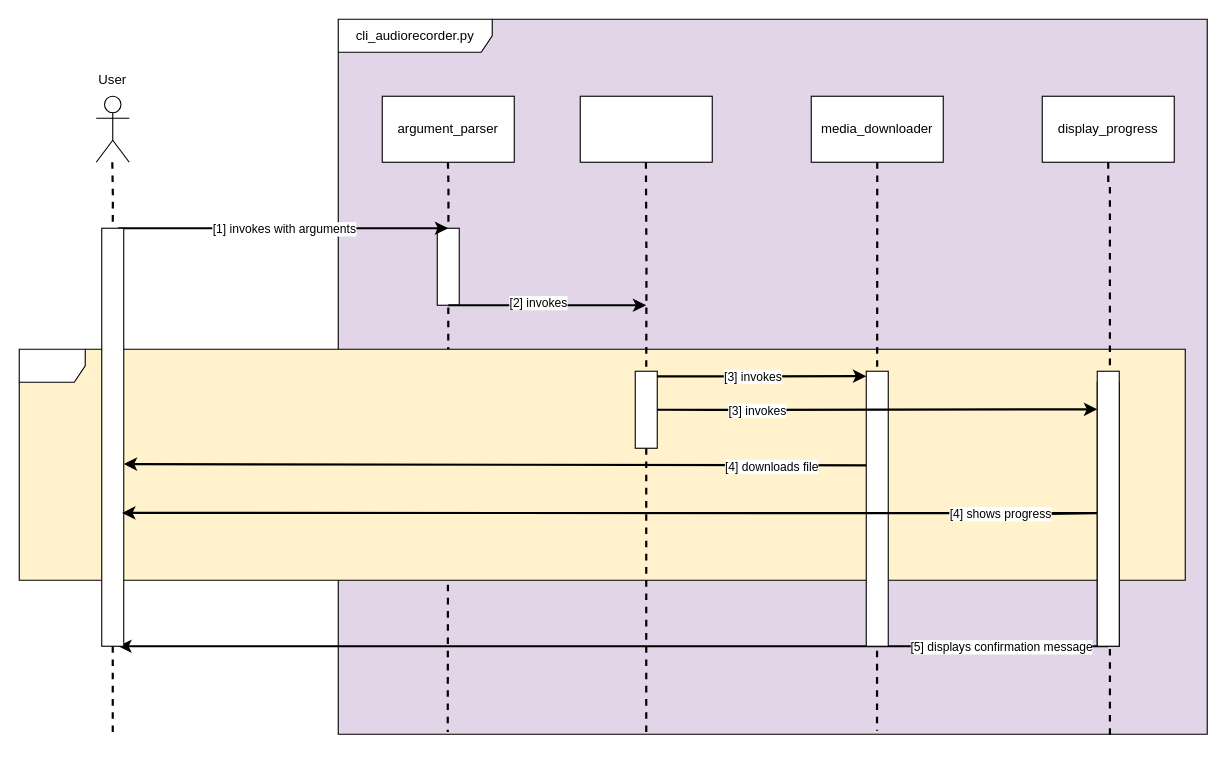
Image size: 1227x758. Some labels were removed from this diagram. Here are the shapes that lost their labels. From the top down, the box of each, then its label:
(579, 95, 712, 162): thread_handler
(18, 348, 1185, 580): par
